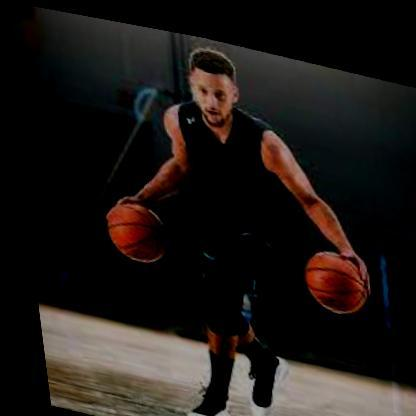basketball: (292, 234, 367, 310), (96, 193, 168, 265)
